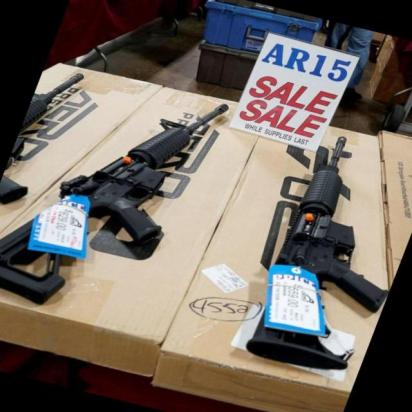Gun: (245, 134, 394, 372)
